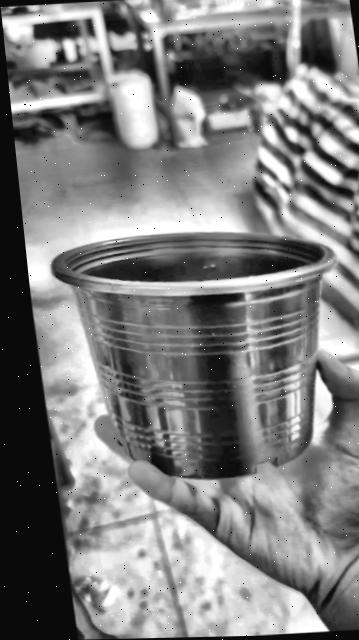pot: (51, 232, 334, 478)
